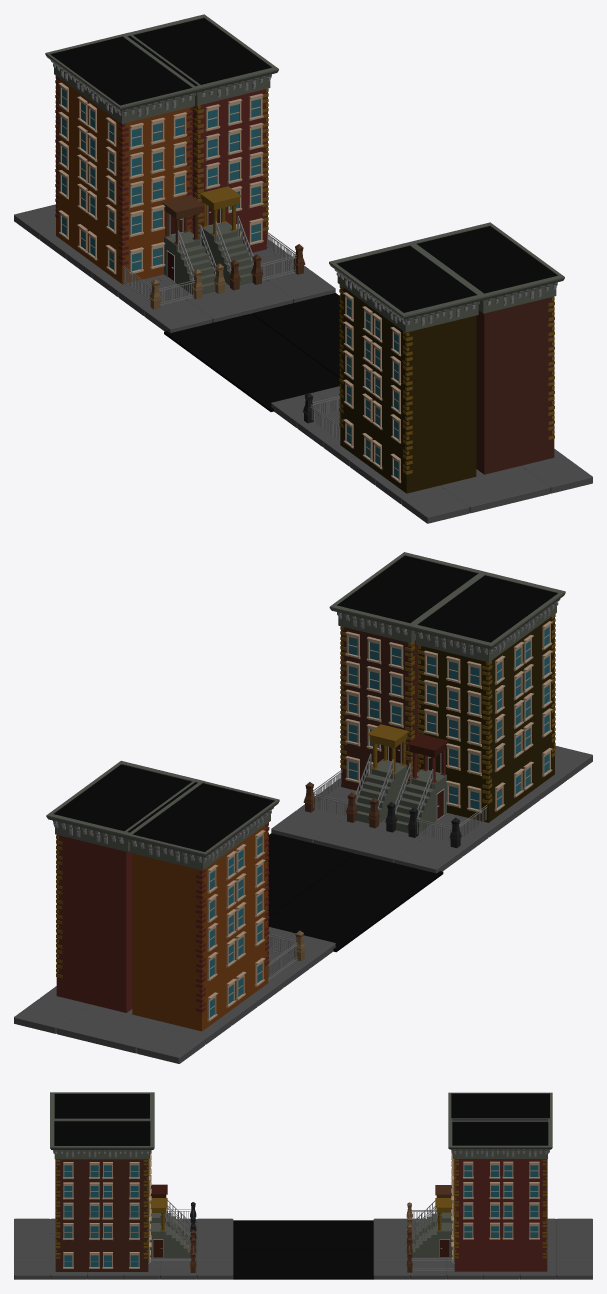
Rendered from BuildingRoads(1).fbx.
The picture shows the model from 3 angles, top to bottom: view 1: azimuth 30°, elevation 25°; view 2: azimuth 150°, elevation 25°; view 3: azimuth 270°, elevation 25°; orthographic projection. The views are drawn at different scales.
Parts seen in each view (by area): view 1: Cube.2172, Cube.774, Cube.1787, Cube.864, Cube.2020, Cube.1835, Cube.1741, Cube.046, Cube.2025, Cube.007, Cube.706, Cube.024 (+14 smaller); view 2: Cube.1787, Cube.007, Cube.2172, Cube.864, Cube.1835, Cube.2020, Cube.1741, Cube.046, Cube.774, Cube.2025, Cube.706, Cube.024 (+14 smaller); view 3: Cube.007, Cube.774, Cube.023, Cube.025, Cube.024, Cube.864, Cube.1741, Cube.1835, Cube.2020, Cube.046, Cube.2025, Cube.706 (+12 smaller).
Part boxes in pixels (left/top/right/bottom): Cube.2172: left=340, top=287, right=476, bottom=493; Cube.774: left=476, top=296, right=554, bottom=474; Cube.1787: left=56, top=78, right=192, bottom=284; Cube.864: left=164, top=313, right=340, bottom=411; Cube.2020: left=271, top=386, right=511, bottom=523; Cube.1835: left=14, top=204, right=254, bottom=332; Cube.1741: left=50, top=36, right=197, bottom=105; Cube.046: left=417, top=226, right=557, bottom=293; Cube.2025: left=337, top=245, right=476, bottom=312; Cube.007: left=192, top=89, right=267, bottom=252; Cube.706: left=133, top=18, right=271, bottom=84; Cube.024: left=252, top=293, right=340, bottom=377; Cube.1787: left=132, top=825, right=268, bottom=1031; Cube.007: left=56, top=835, right=132, bottom=1012; Cube.2172: left=418, top=617, right=554, bottom=822; Cube.864: left=268, top=854, right=443, bottom=952; Cube.1835: left=96, top=927, right=335, bottom=1063; Cube.2020: left=352, top=745, right=592, bottom=873; Cube.1741: left=128, top=782, right=274, bottom=851; Cube.046: left=337, top=556, right=477, bottom=623; Cube.774: left=341, top=626, right=418, bottom=790; Cube.2025: left=418, top=575, right=557, bottom=642; Cube.706: left=54, top=764, right=191, bottom=831; Cube.024: left=268, top=833, right=354, bottom=916; Cube.007: left=454, top=1159, right=547, bottom=1271; Cube.774: left=55, top=1159, right=148, bottom=1271; Cube.023: left=373, top=1246, right=592, bottom=1279; Cube.025: left=14, top=1246, right=233, bottom=1279; Cube.024: left=233, top=1249, right=373, bottom=1279; Cube.864: left=233, top=1220, right=373, bottom=1249; Cube.1741: left=451, top=1093, right=549, bottom=1120; Cube.1835: left=373, top=1218, right=592, bottom=1247; Cube.2020: left=14, top=1218, right=233, bottom=1247; Cube.046: left=54, top=1121, right=150, bottom=1145; Cube.2025: left=54, top=1094, right=149, bottom=1118; Cube.706: left=452, top=1122, right=548, bottom=1145.
Size of the model in its own units: 3008 by 3199 by 12745.
